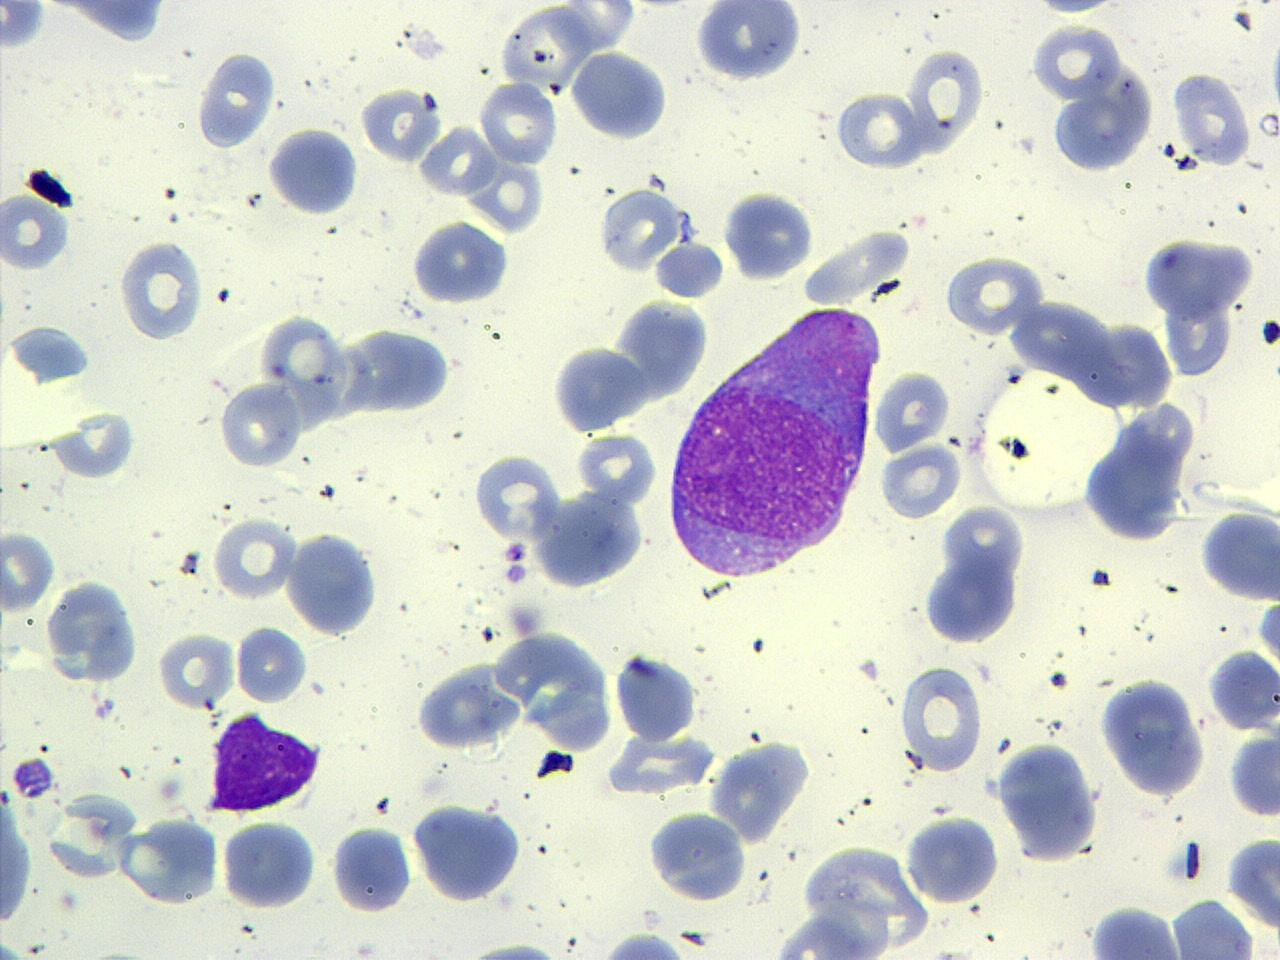Platelets: (1225, 730, 1279, 818), (654, 238, 730, 298), (0, 2, 48, 54), (466, 938, 566, 960), (10, 756, 57, 798), (506, 600, 546, 638), (1035, 0, 1113, 18), (1165, 842, 1197, 884), (537, 748, 574, 778), (1181, 836, 1203, 884), (1269, 34, 1280, 116), (1256, 316, 1280, 350), (158, 774, 186, 802), (856, 656, 882, 684), (503, 560, 529, 586), (1231, 7, 1255, 34), (180, 548, 204, 576), (501, 541, 528, 564), (1006, 435, 1029, 460), (930, 945, 966, 960), (0, 938, 23, 960), (1089, 566, 1113, 587), (1173, 154, 1199, 173), (93, 698, 115, 719), (901, 748, 923, 768), (1048, 670, 1070, 690), (976, 659, 992, 684), (422, 91, 440, 112), (1005, 366, 1024, 384), (376, 794, 392, 814), (1163, 141, 1179, 160), (0, 787, 12, 806), (752, 637, 766, 653), (217, 288, 231, 304)
RBC: (338, 326, 456, 416), (1140, 233, 1260, 320), (115, 814, 223, 906), (545, 342, 648, 438), (898, 662, 984, 774), (218, 818, 321, 912), (116, 236, 207, 342), (571, 47, 668, 146), (906, 45, 988, 158), (799, 228, 916, 306), (942, 253, 1048, 336), (1171, 67, 1255, 169), (470, 450, 562, 543), (499, 4, 592, 95), (612, 649, 699, 744), (327, 822, 414, 916), (596, 185, 686, 274), (1029, 18, 1121, 104), (833, 88, 924, 173), (211, 514, 296, 604), (219, 380, 301, 470), (477, 79, 558, 167), (872, 368, 954, 455), (258, 312, 345, 392), (574, 428, 658, 507), (156, 629, 236, 712), (878, 443, 962, 521), (234, 621, 309, 706), (358, 83, 435, 164), (1, 187, 72, 275), (765, 912, 892, 960), (418, 122, 497, 200), (1226, 832, 1280, 930), (1226, 728, 1280, 820), (1, 526, 56, 614), (652, 239, 726, 299)
WBC: (657, 298, 890, 586), (1034, 20, 1164, 177), (1079, 396, 1201, 546), (920, 507, 1027, 649), (1097, 669, 1211, 800), (994, 738, 1103, 865), (206, 707, 326, 814), (532, 486, 647, 592), (411, 799, 526, 905), (709, 735, 817, 843), (43, 574, 144, 686), (283, 528, 382, 640), (1080, 898, 1260, 960), (413, 658, 525, 755), (340, 324, 454, 418), (1143, 229, 1261, 319), (644, 806, 751, 905), (120, 232, 210, 347), (569, 48, 673, 144), (903, 810, 1004, 908), (549, 334, 651, 431), (222, 814, 324, 910), (898, 662, 986, 772), (408, 217, 513, 309), (118, 813, 222, 905), (721, 186, 817, 283), (471, 449, 566, 548), (802, 224, 916, 307), (692, 1, 806, 84), (266, 123, 364, 218), (596, 186, 694, 274), (1170, 67, 1254, 170), (195, 48, 278, 152), (1198, 502, 1280, 606), (611, 650, 700, 744), (837, 87, 927, 175), (329, 823, 414, 917), (50, 407, 142, 482), (24, 0, 184, 42), (1205, 644, 1279, 732), (762, 911, 892, 959), (1, 774, 37, 938), (7, 323, 95, 386), (1226, 833, 1280, 931), (1225, 730, 1280, 820), (652, 236, 726, 301), (580, 928, 708, 960), (1257, 584, 1280, 690)
